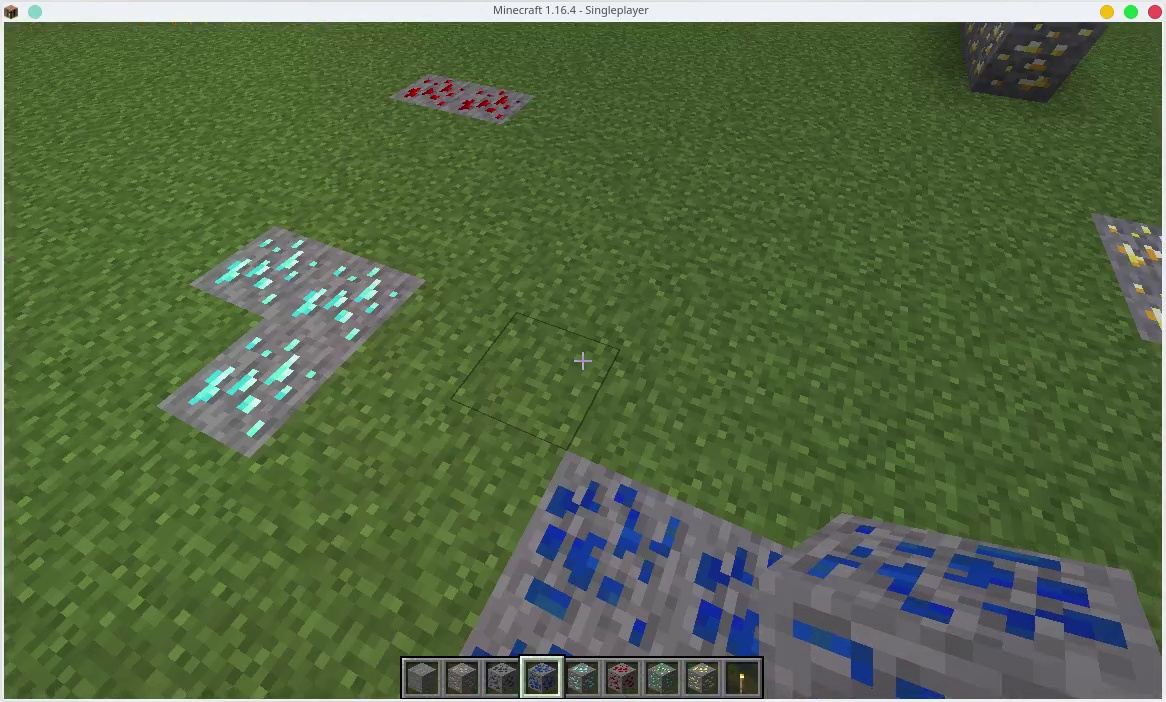gold: (981, 20, 1061, 99), (687, 664, 716, 693)
